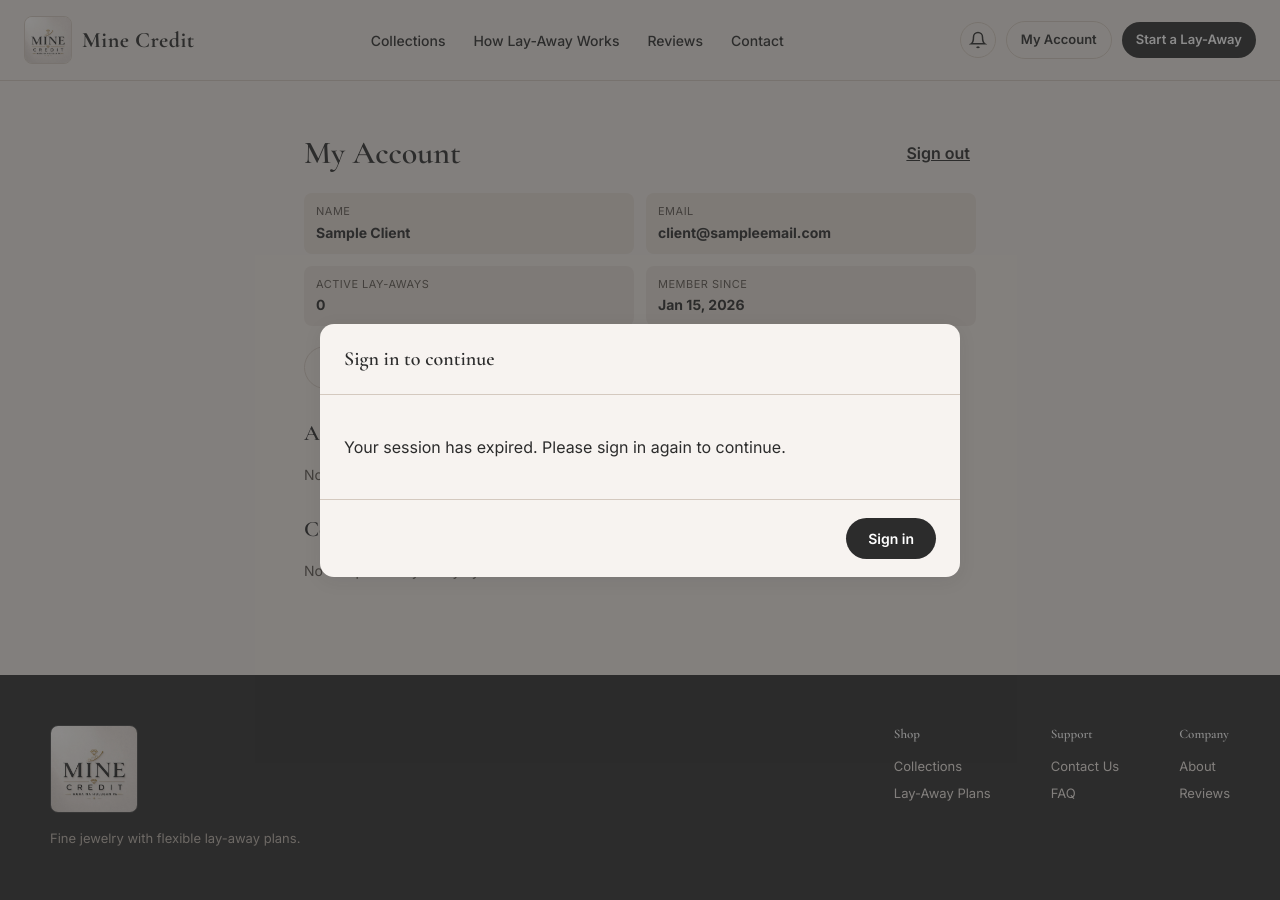
Test case: Account › blocks the page with the sign-in modal when the refresh token is revoked
Check: the dialog "Sign in to continue" is shown, box [320, 324, 960, 576]
Step 1. Click the button "Sign in" → (891, 538), box [846, 518, 936, 558]
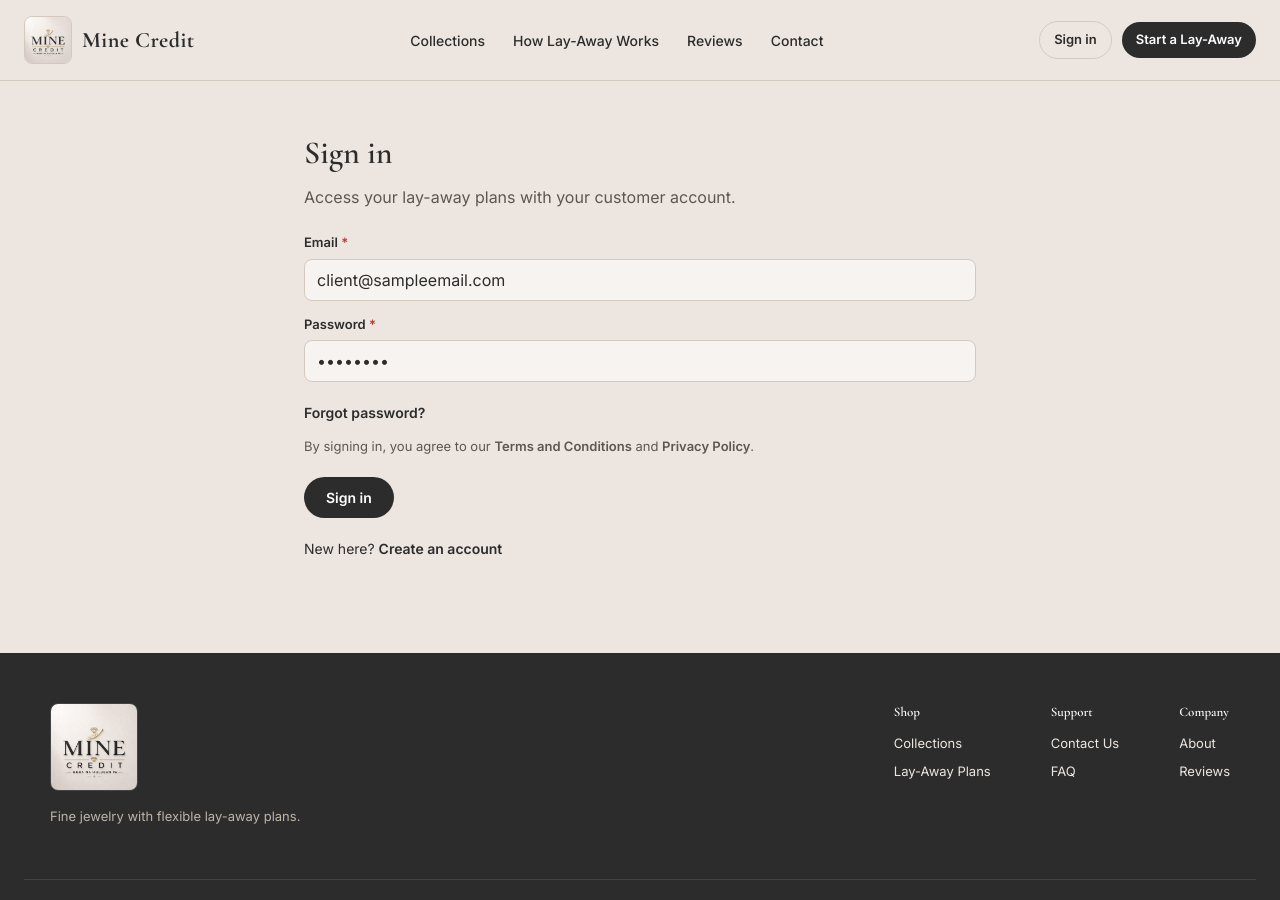
Check: the heading "Sign in" is shown, box [304, 133, 393, 172]
